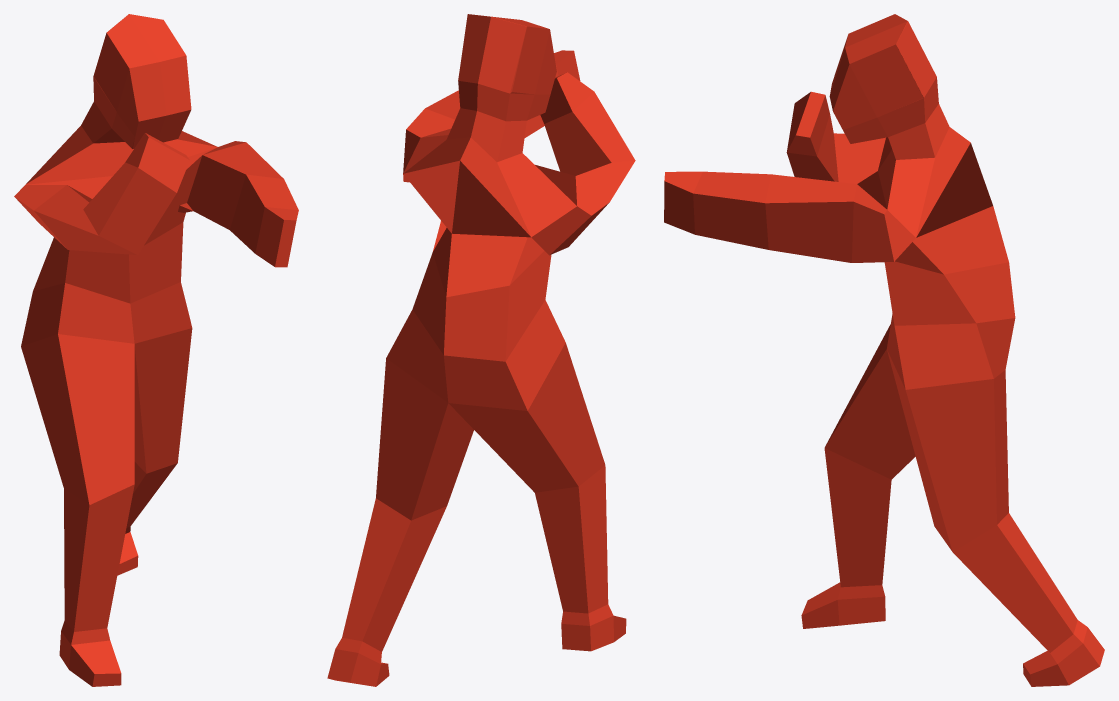
File: Player_Left_Straight.fbx
3 views of the same model, side by side, from view 1: azimuth 30°, elevation 25°; view 2: azimuth 150°, elevation 25°; view 3: azimuth 270°, elevation 25° (orthographic). The views are drawn at different scales.
Visible parts, largest first — view 1: Person; view 2: Person; view 3: Person.
Boxes of the visible parts, x1=… form: Person: x1=14, y1=14, x2=298, y2=686; Person: x1=327, y1=14, x2=635, y2=686; Person: x1=664, y1=14, x2=1104, y2=686.
Bounding box in the file's own units: 283 × 833 × 522.
